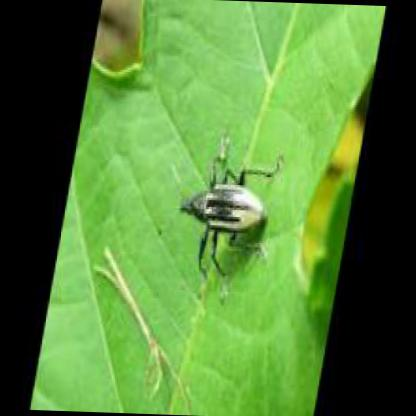ash weevil: (181, 145, 275, 278)
